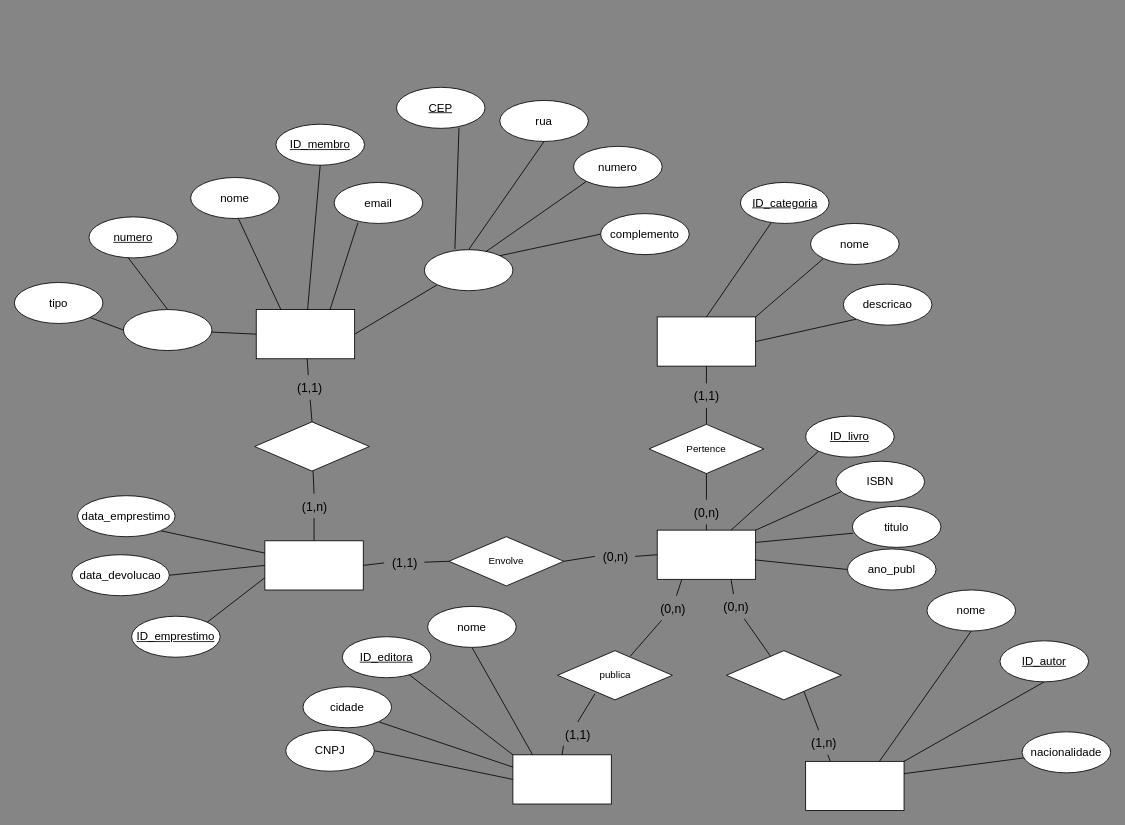
This 1125x825 diagram has some shape labels left out. Here are the shapes that lost their labels. From the top down, the box of each, then its label:
(424, 249, 513, 291): endereco
(123, 309, 212, 351): telefones
(255, 309, 355, 359): Membro
(656, 316, 756, 366): Categoria
(254, 421, 369, 471): Realiza
(264, 540, 363, 590): Emprestimo
(656, 529, 756, 579): Livro
(726, 650, 841, 700): Escreve
(512, 754, 611, 804): Editora
(805, 761, 904, 811): Autor
